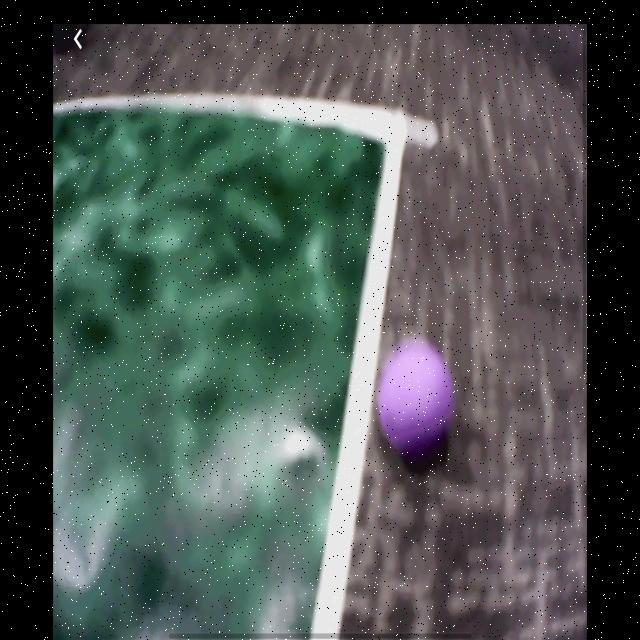ball: (376, 335, 457, 472)
